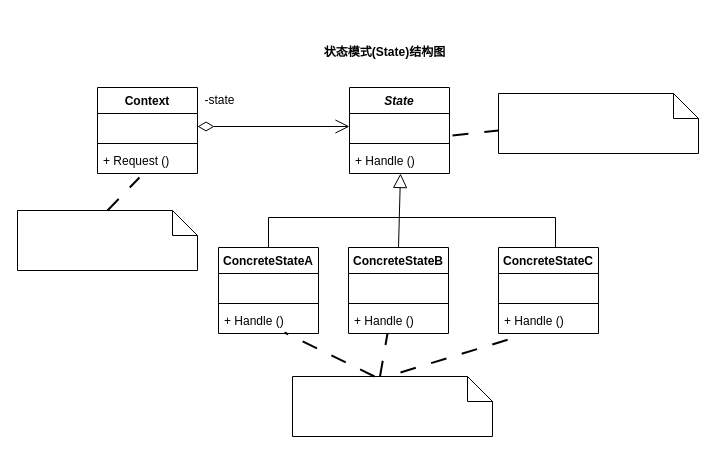
This 716x454 diagram has some shape labels left out. The centre of each missing label's shape, as x and y in pixels:
具体状态，每个子类实现一个与Context的一个状态相关的行为: point 392,406
抽象状态类，定义一个接口以封装与Context一个特定状态相关的行为: point 598,123
维护一个ConcreteState子类的实例，这个实例定义当前的状态: point 107,240
